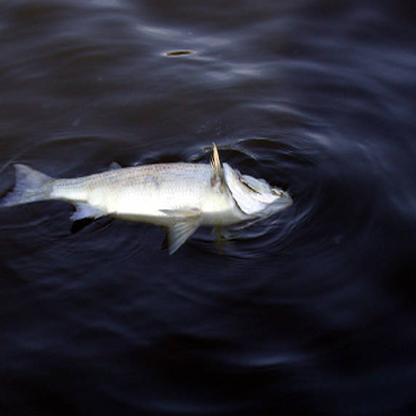deceased fish: (4, 145, 294, 252)
